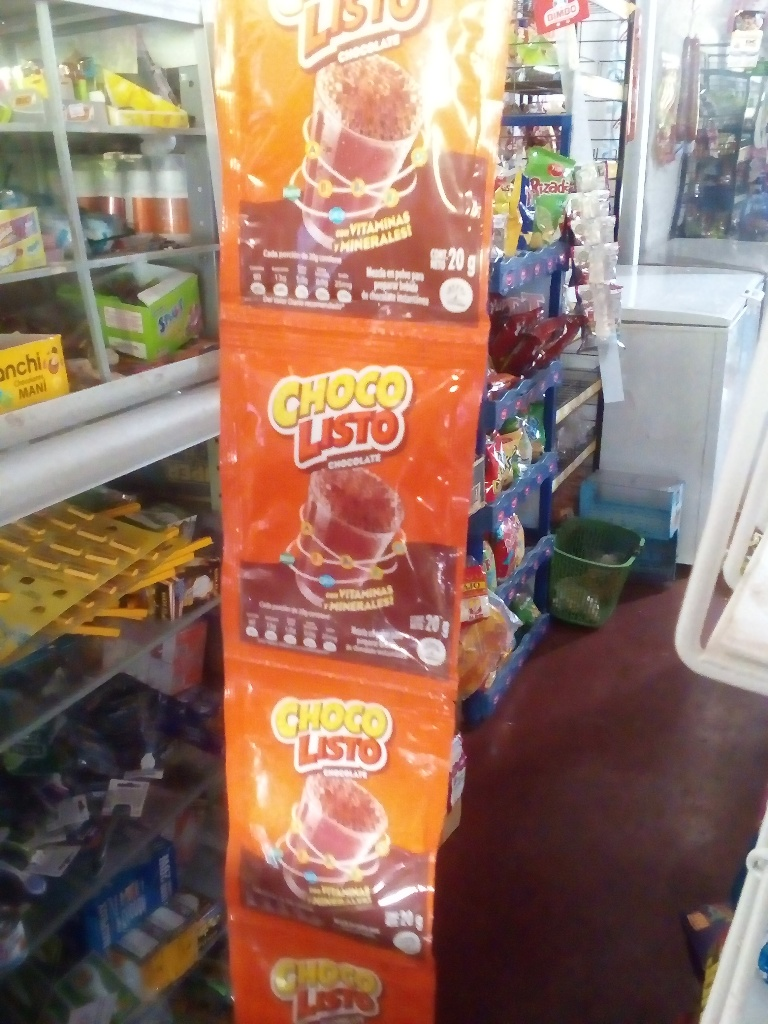COL0170103SOB02000: (194, 303, 492, 687)
